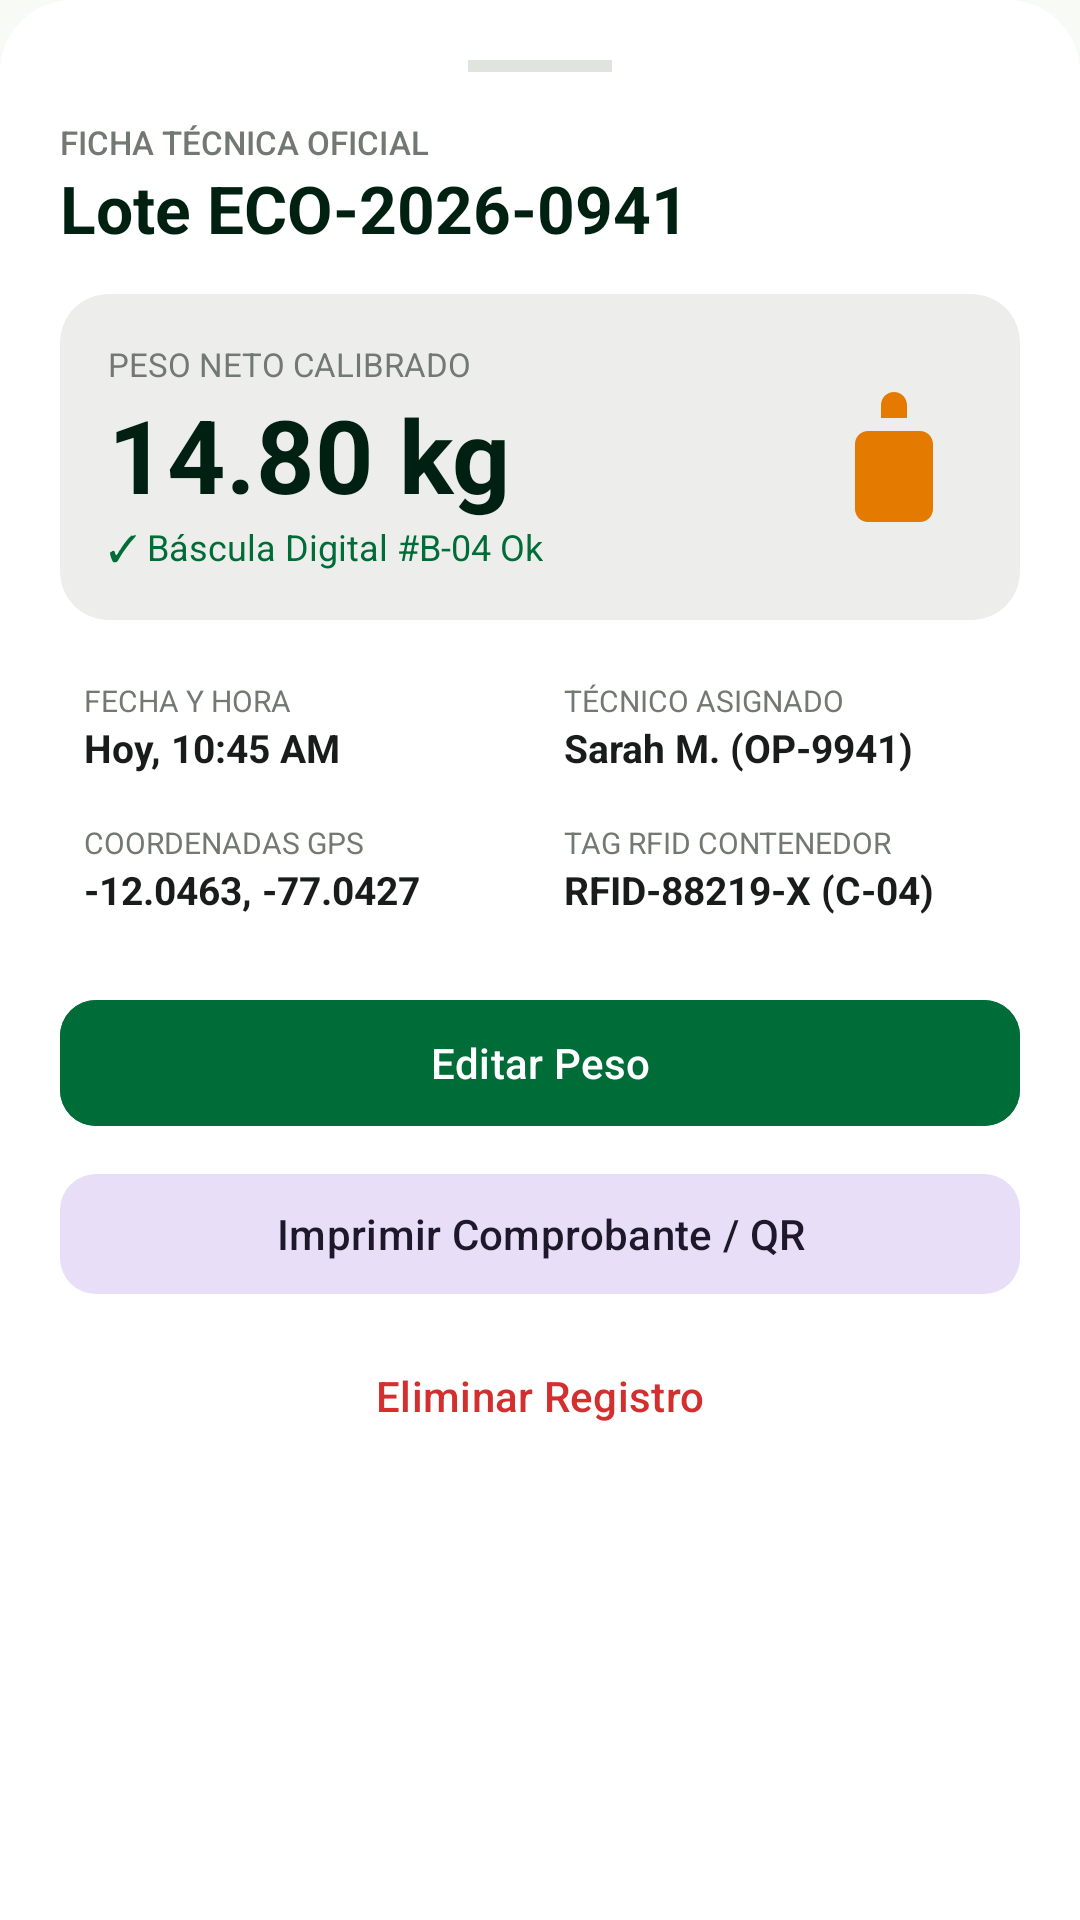

Icons on this 1080x1920 Android screen, each with the point to tap as (x,y):
plastico: (894,457)
